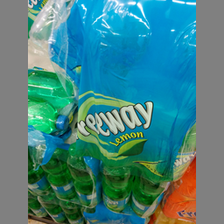soda: (35, 139, 75, 200), (65, 144, 100, 209), (29, 68, 80, 105), (132, 159, 165, 215), (28, 95, 70, 136), (101, 157, 132, 211)
